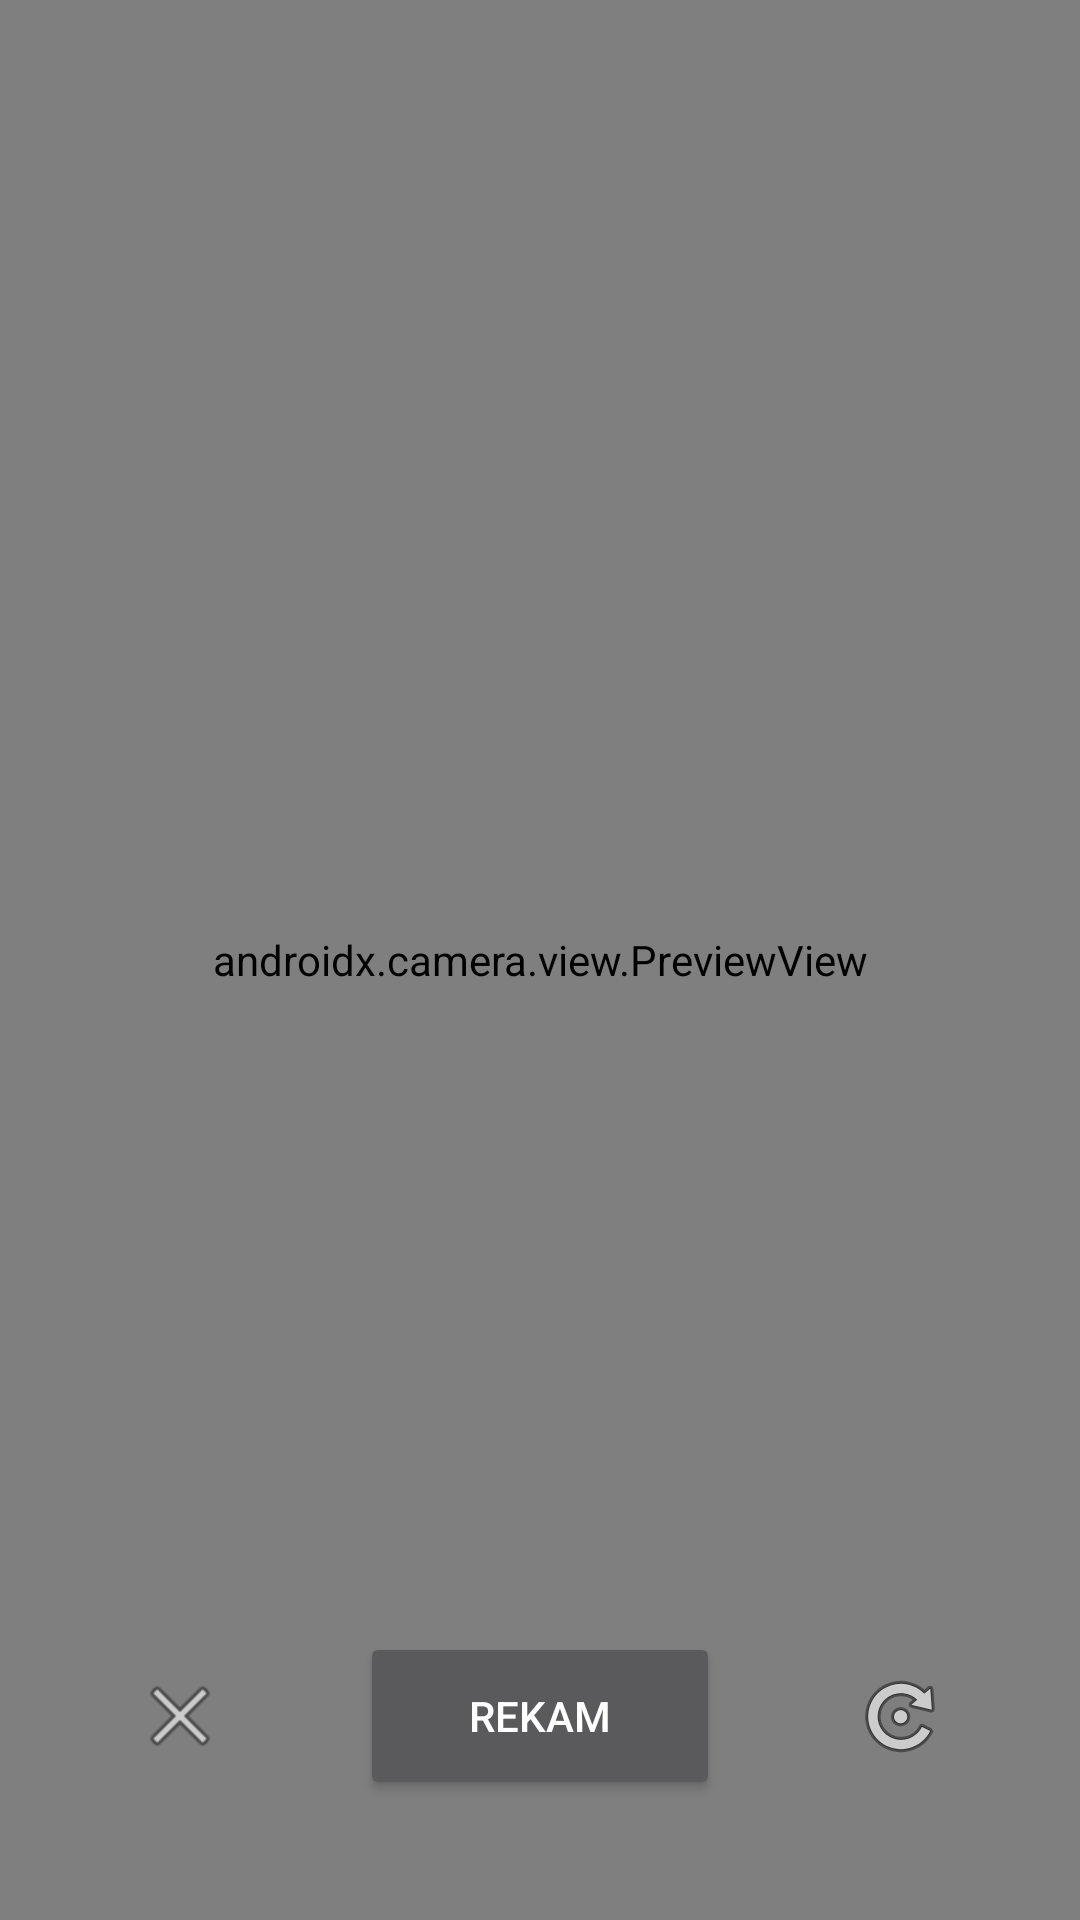

Icons on this 1080px x 1920px Android screen, each with the point to tap as point (x, y):
Cancel: point (180, 1716)
Switch Camera: point (900, 1716)
